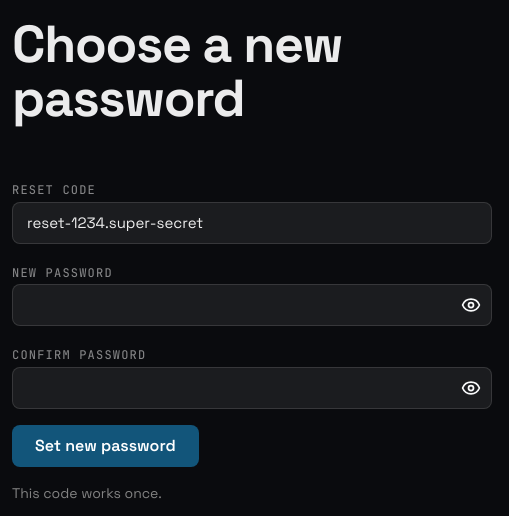
Scenario: ResetPasswordScreen › shouldChangeThePasswordAndPointAtSignIn
In the password field labelled "New password": point(252, 305) left=13, top=285, right=491, bottom=325, type "brand new passphrase"
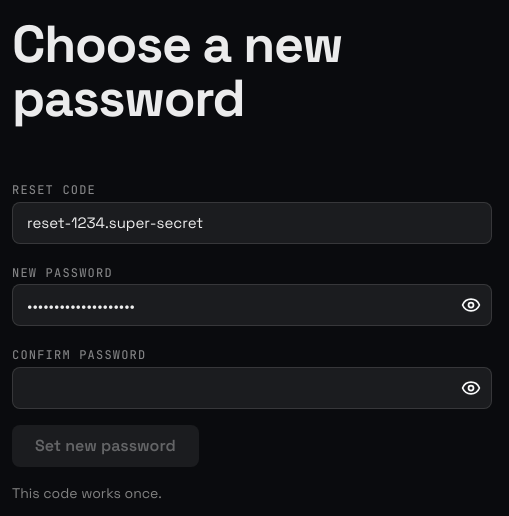
In the password field labelled "Confirm password": point(252, 388) left=13, top=368, right=491, bottom=408, type "brand new passphrase"
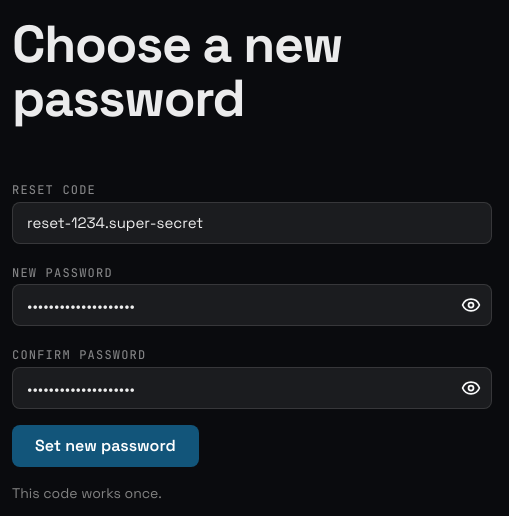
Click the button "Set new password": point(105, 446) left=12, top=425, right=199, bottom=467
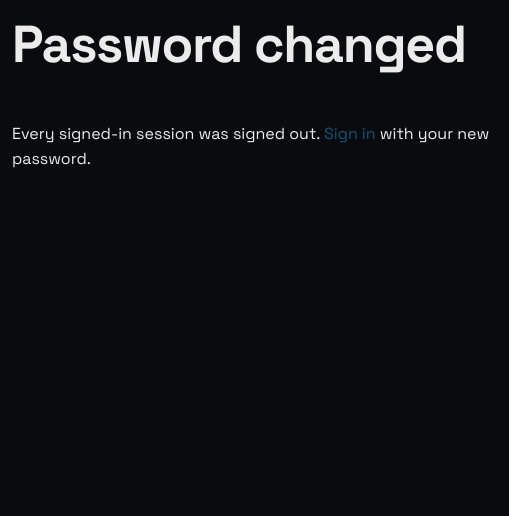
expect the heading "Password changed" is shown: met, box left=12, top=17, right=492, bottom=71
expect the link "Sign in" is shown: met, box left=324, top=123, right=376, bottom=144
